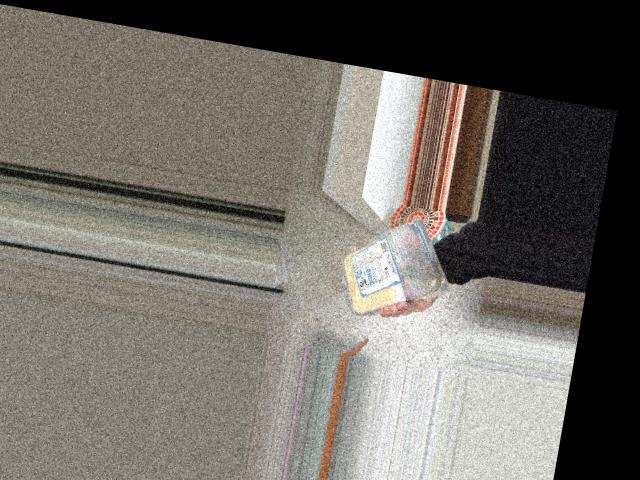cheese: (331, 201, 434, 318)
